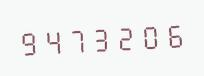four: (41, 23, 64, 57)
nine: (17, 24, 40, 59)
seven: (65, 21, 88, 56)
six: (161, 16, 184, 51)
three: (89, 20, 112, 55)
two: (113, 19, 136, 54)
zero: (137, 18, 160, 52)
